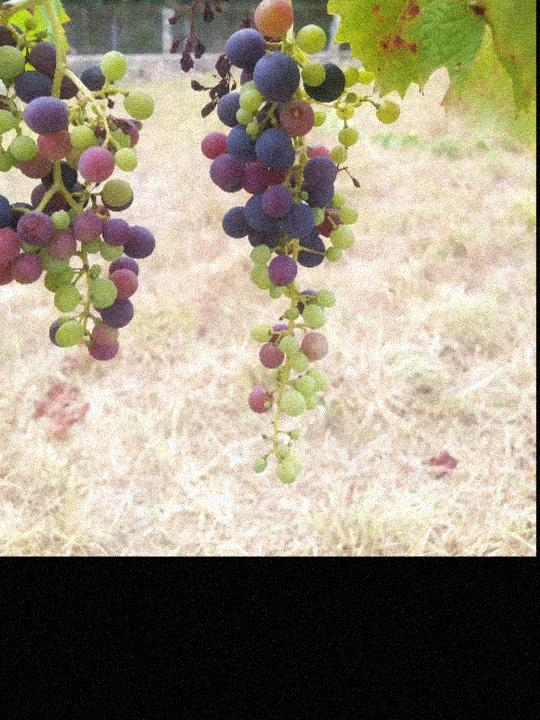grape: (185, 0, 398, 487), (0, 0, 157, 362), (149, 0, 243, 74)
